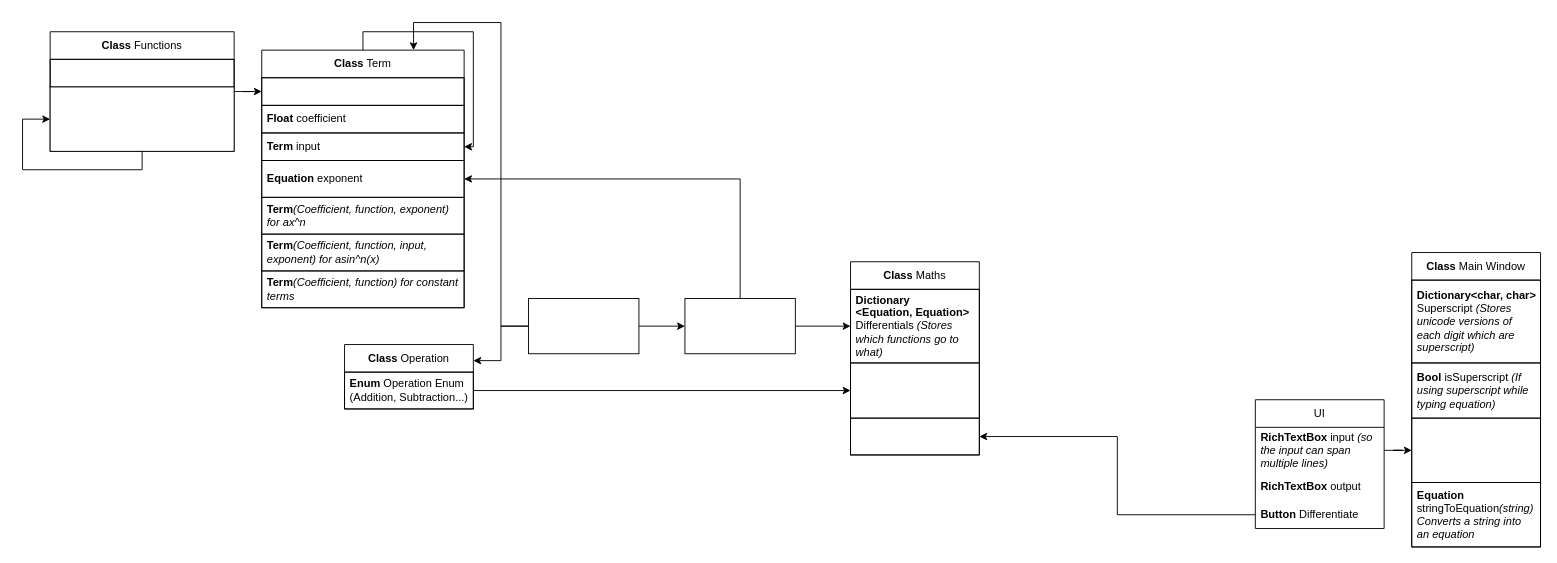
Image size: 1557x563. Some labels were removed from this diagram. The shapes that lost their labels are listed below. From the top down, each one's centre as x and y in pixels, then its label:
the point at 141,72: Enum Function (sin, cos, tan...)
the point at 362,91: Function function
the point at 141,118: Dictionary <Function, bool> functions (Checks if function requires input)
the point at 583,326: Interface Equation Item
the point at 739,326: List<Equation Item> Equation
the point at 914,390: Dictionary<char, OperationEnum> Operations
the point at 914,436: Differentiate Equation (Equation)
the point at 1476,450: String EquationStr (Equation) Displays equation as string
